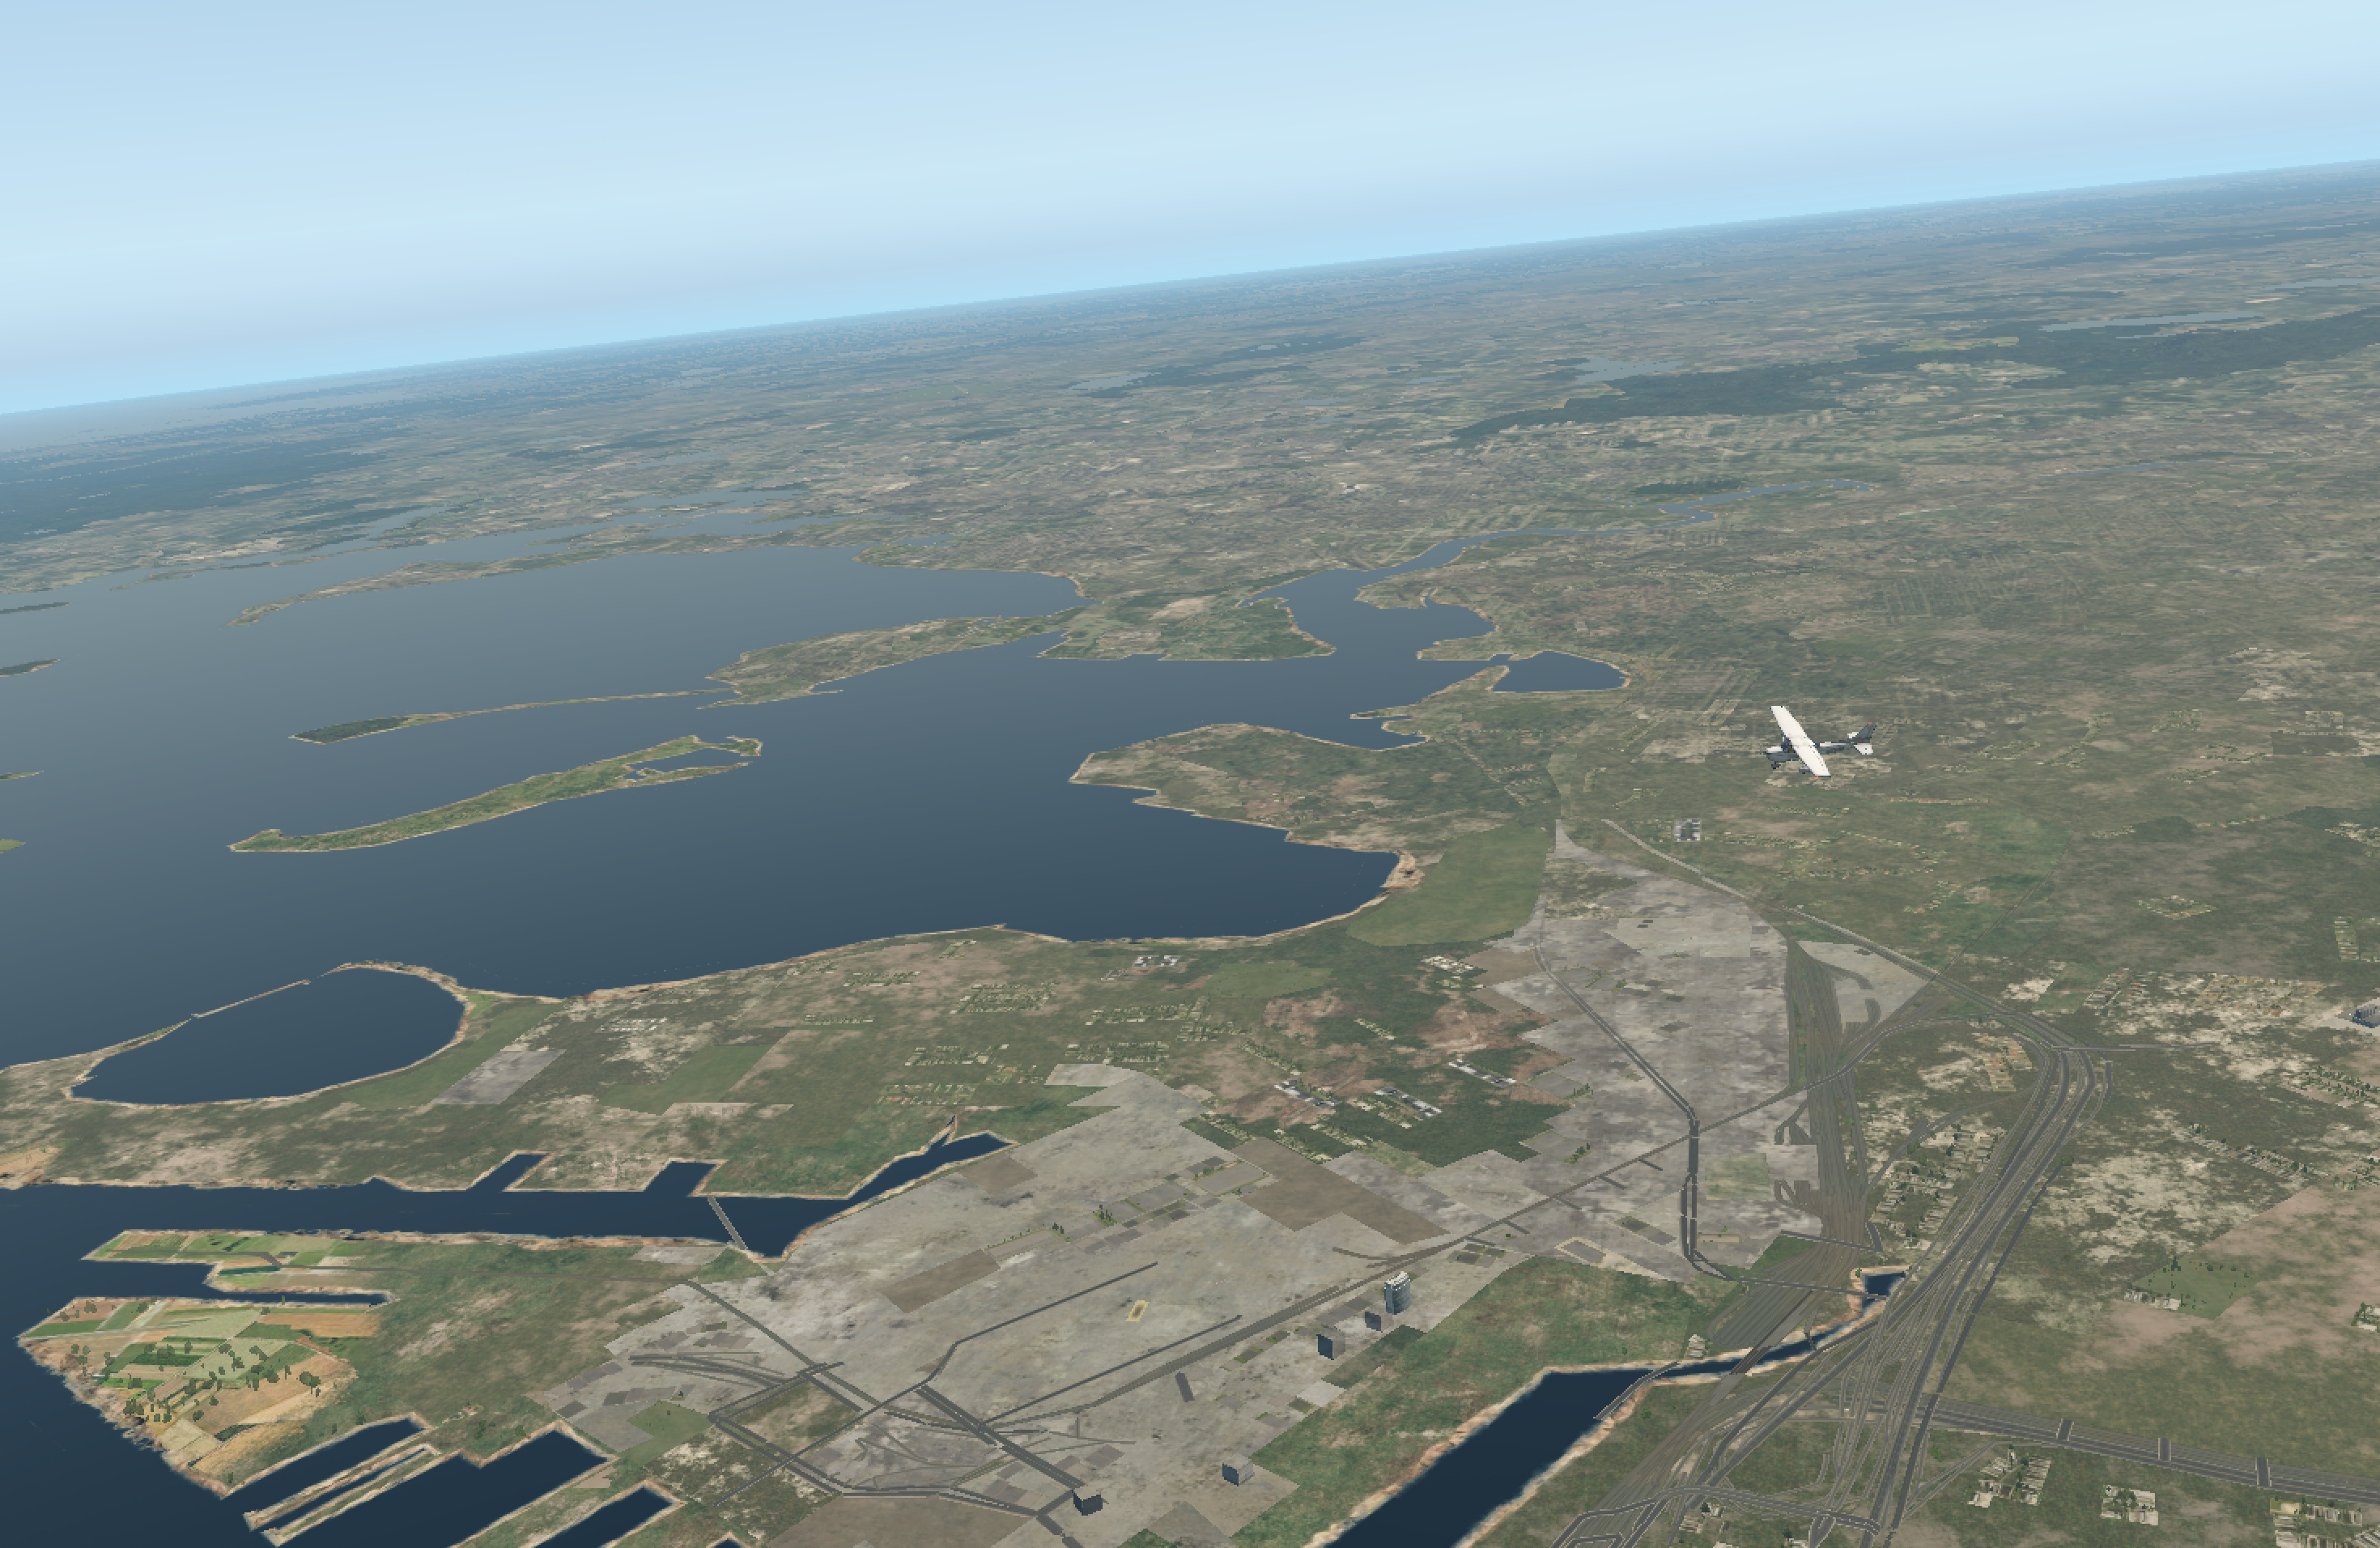aircraft: (1742, 729, 1847, 769)
